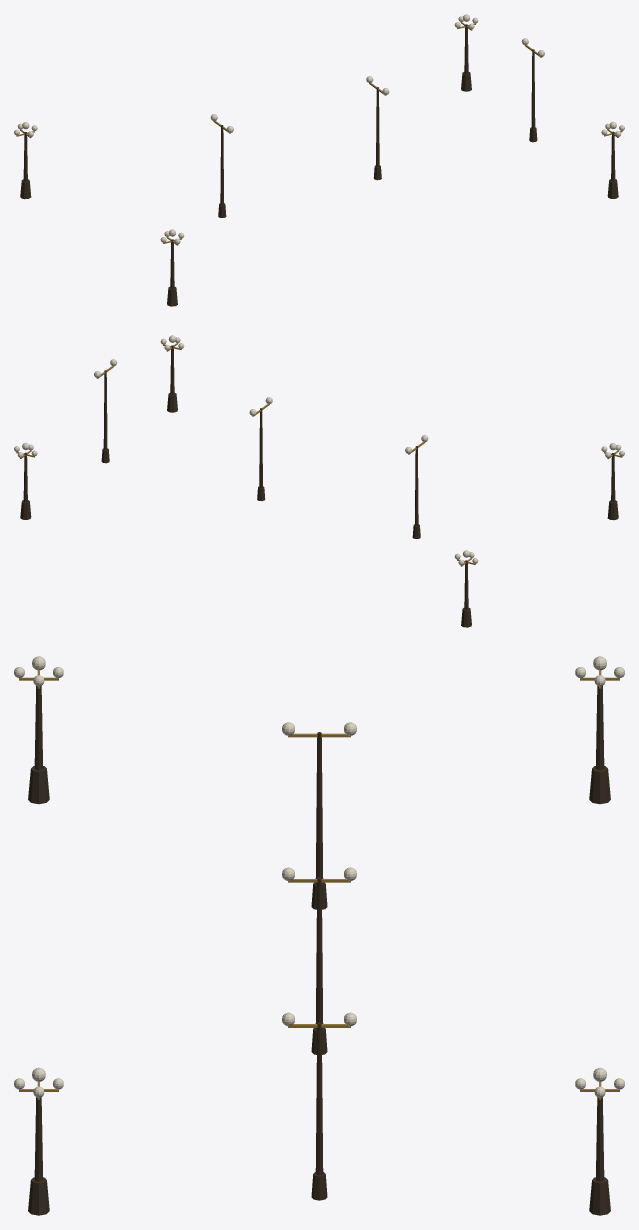
The model's file is giahoi-hero.glb.
The picture shows the model from 3 angles, top to bottom: view 1: azimuth 30°, elevation 25°; view 2: azimuth 150°, elevation 25°; view 3: azimuth 270°, elevation 25°; orthographic projection. The views are drawn at different scales.
Visible parts, largest first — view 1: giahoi_hero_ornaments; view 2: giahoi_hero_ornaments; view 3: giahoi_hero_ornaments.
Boxes of the visible parts, x1,y1,x2,y2 form: giahoi_hero_ornaments: (14, 14, 624, 306); giahoi_hero_ornaments: (14, 335, 624, 627); giahoi_hero_ornaments: (14, 656, 624, 1215).
Bounding box in the file's own units: 35.76 × 7.39 × 21.34.
